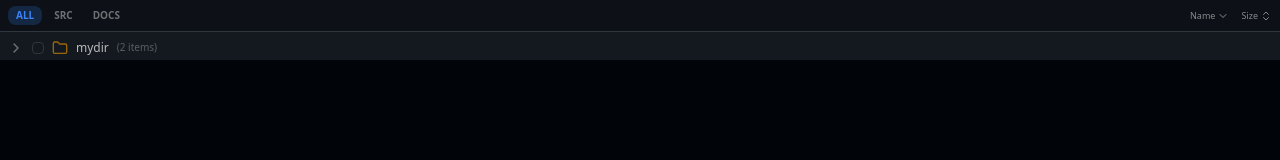
Test: FileTree State Preservation › Selection state preservation › should preserve selection state when folder is collapsed and re-expanded
Expected: the text "mydir" is shown, [76,38,109,56]
Note: Expand folder
Click the button with test id "expand-icon" at [16, 48], box [6,38,26,58]
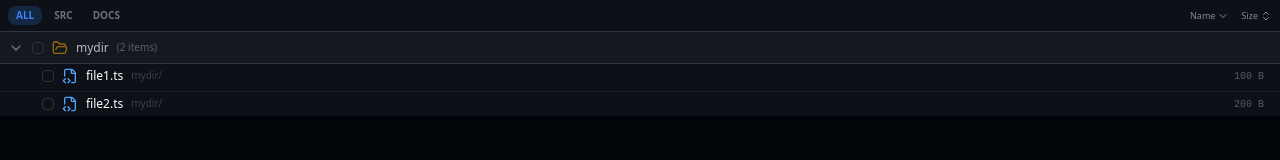
Expected: the text "file1.ts" is shown, [86,66,123,84]
Note: Select file1.ts
Click the checkbox with test id "tree-checkbox" at [48, 76], box [42,70,54,82]
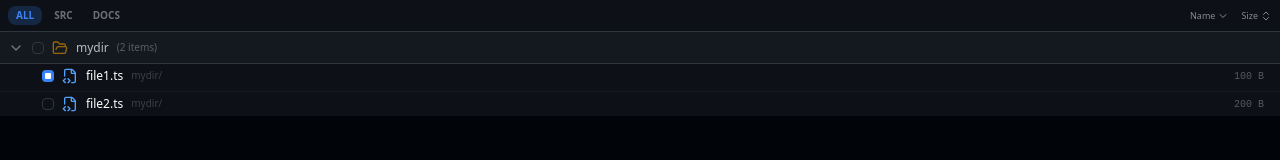
Expected: the checkbox with test id "tree-checkbox" is checked, [42,70,54,82]
Note: Collapse folder
Click the button with test id "expand-icon" at [16, 48], box [6,38,26,58]
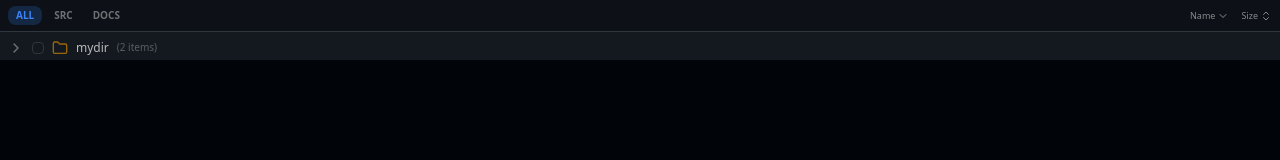
Expected: the text "file1.ts" is gone
Note: Re-expand folder
Click the button with test id "expand-icon" at [16, 48], box [6,38,26,58]
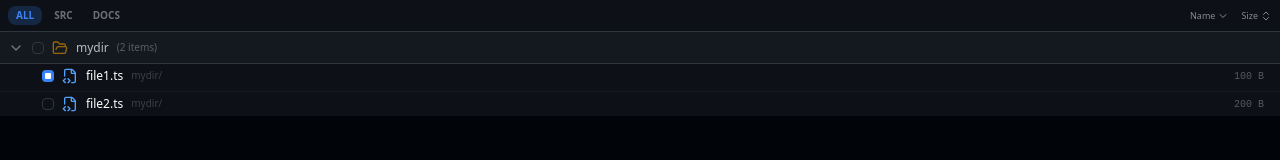
Expected: the text "file1.ts" is shown, [86,66,123,84]
Expected: the checkbox with test id "tree-checkbox" is checked, [42,70,54,82]
